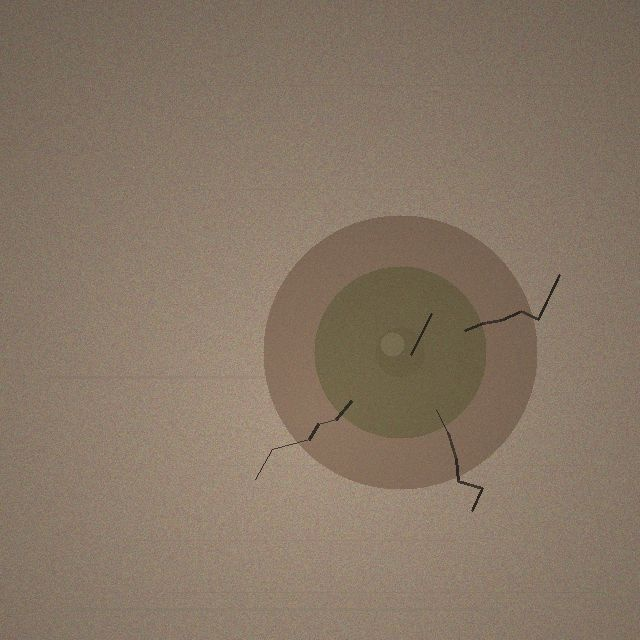crack: (263, 215, 537, 489)
